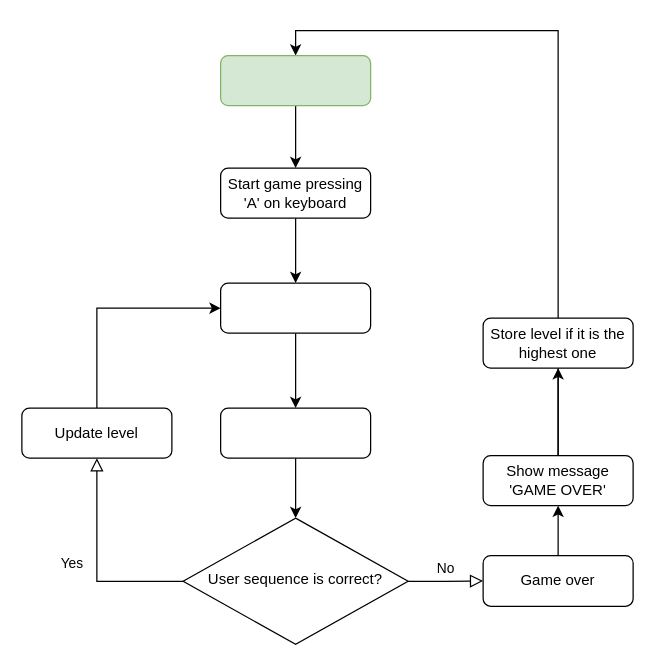
This 655x666 diagram has some shape labels left out. The centre of each missing label's shape, as x and y in pixels:
"Game shows next sequence" goes at point (295, 307).
"Start" goes at point (295, 80).
"User try to match game sequence" goes at point (295, 432).
